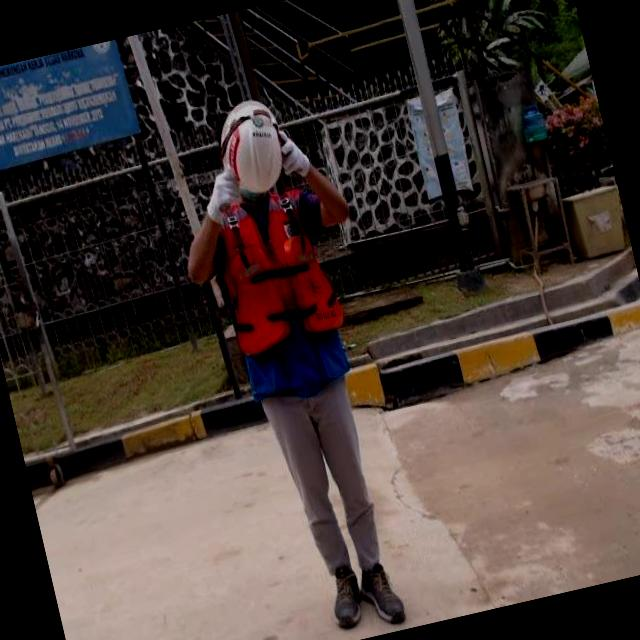boots: (322, 558, 374, 640), (358, 553, 412, 628)
helmet: (207, 86, 296, 216)
vest: (206, 181, 360, 382)
